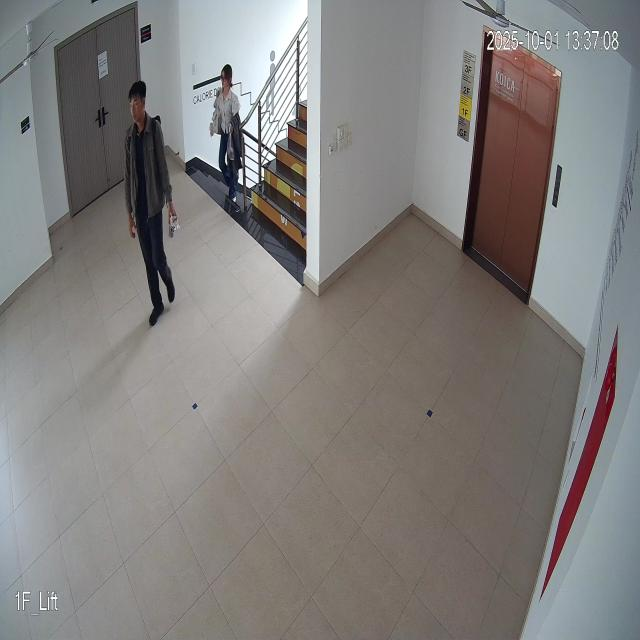face: (126, 72, 148, 130)
